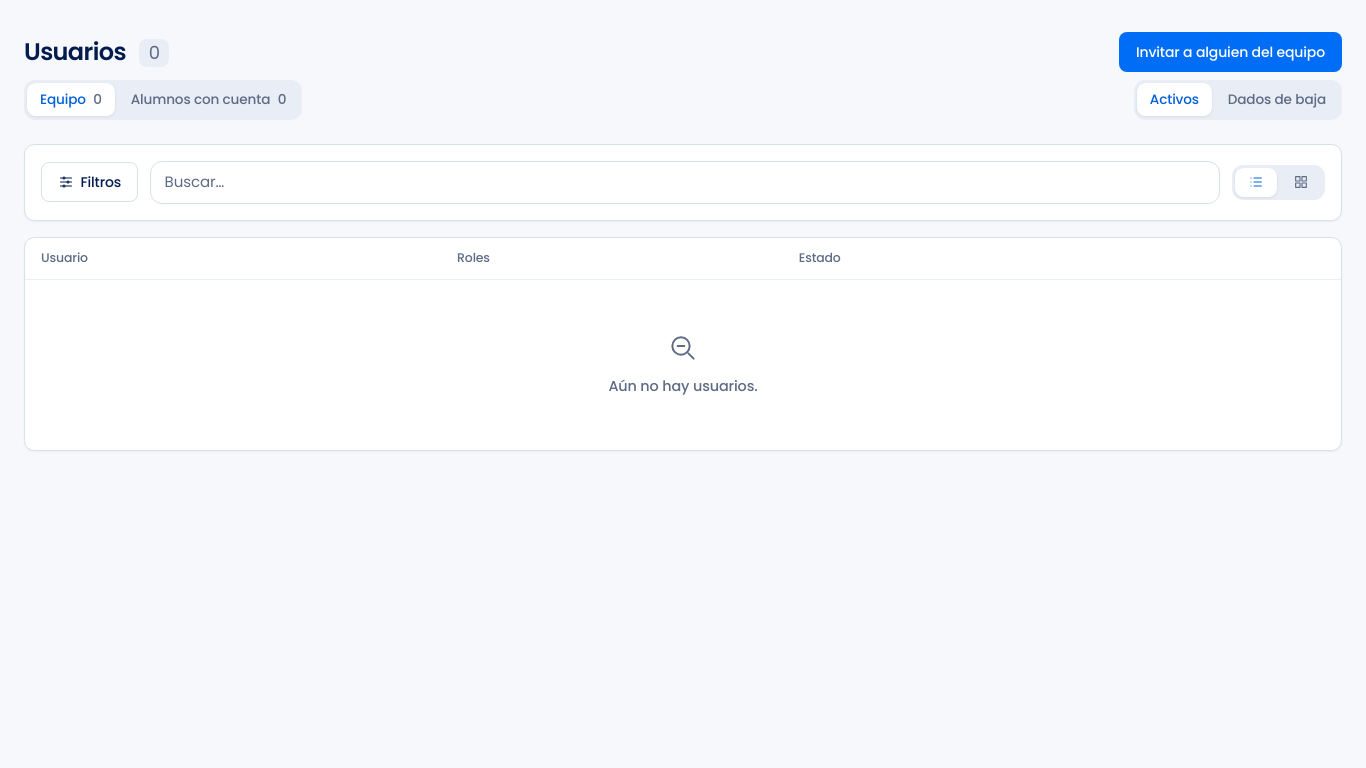
Test: invitar a alguien del equipo › con varias sucursales, la suya es obligatoria
Click the button "Invitar a alguien del equipo" at (1230, 52), box [1119,32,1342,72]
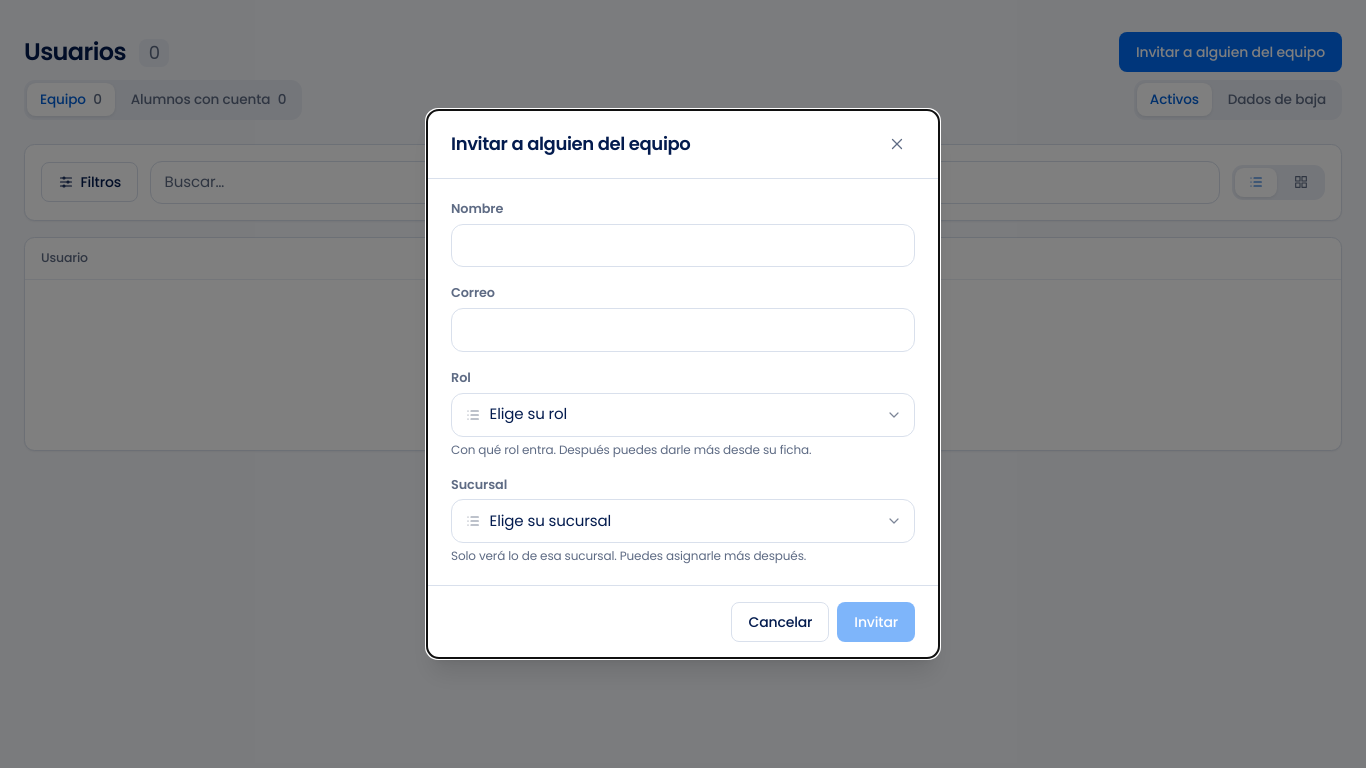
Type "Rosa" into the field with id "ie-nombre" at (683, 246), box [451,224,915,267]
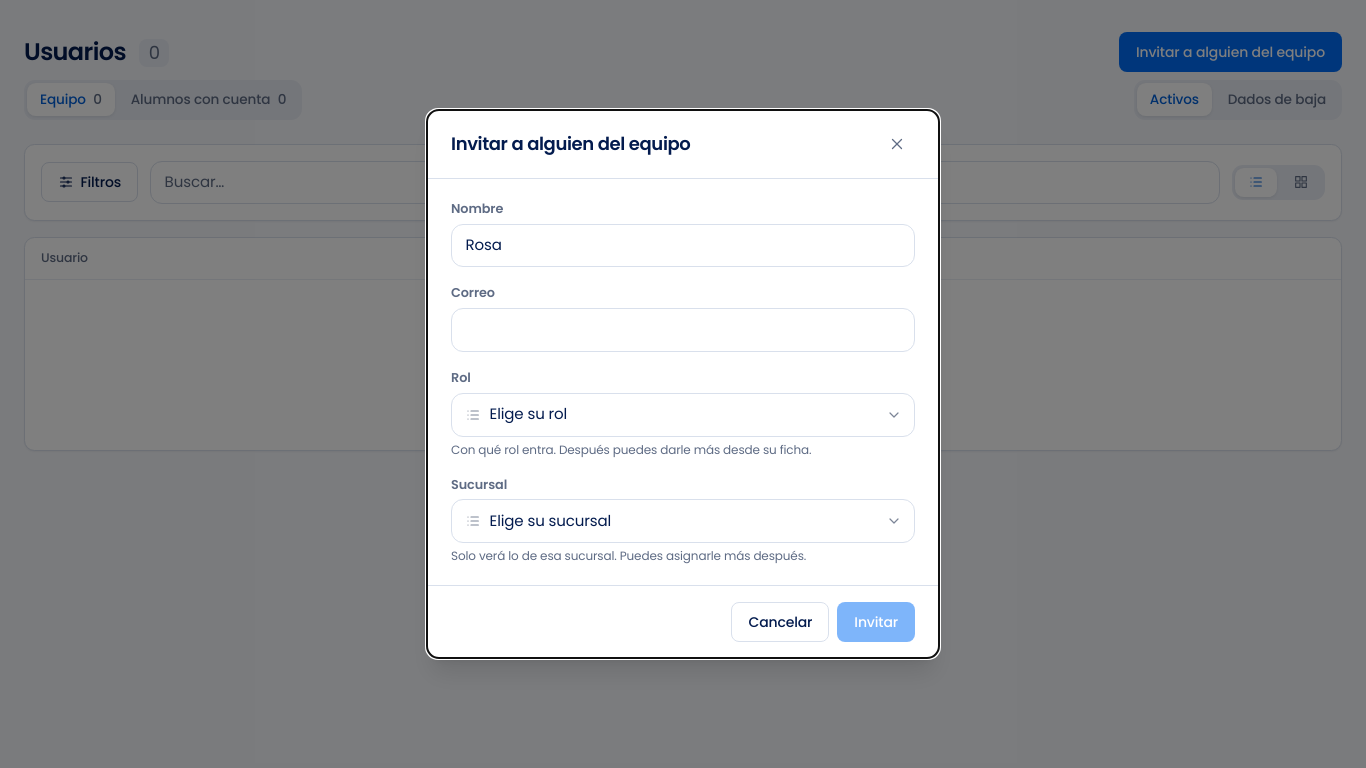
Type "rosa@correo.mx" into the field with id "ie-email" at (683, 330), box [451,308,915,352]
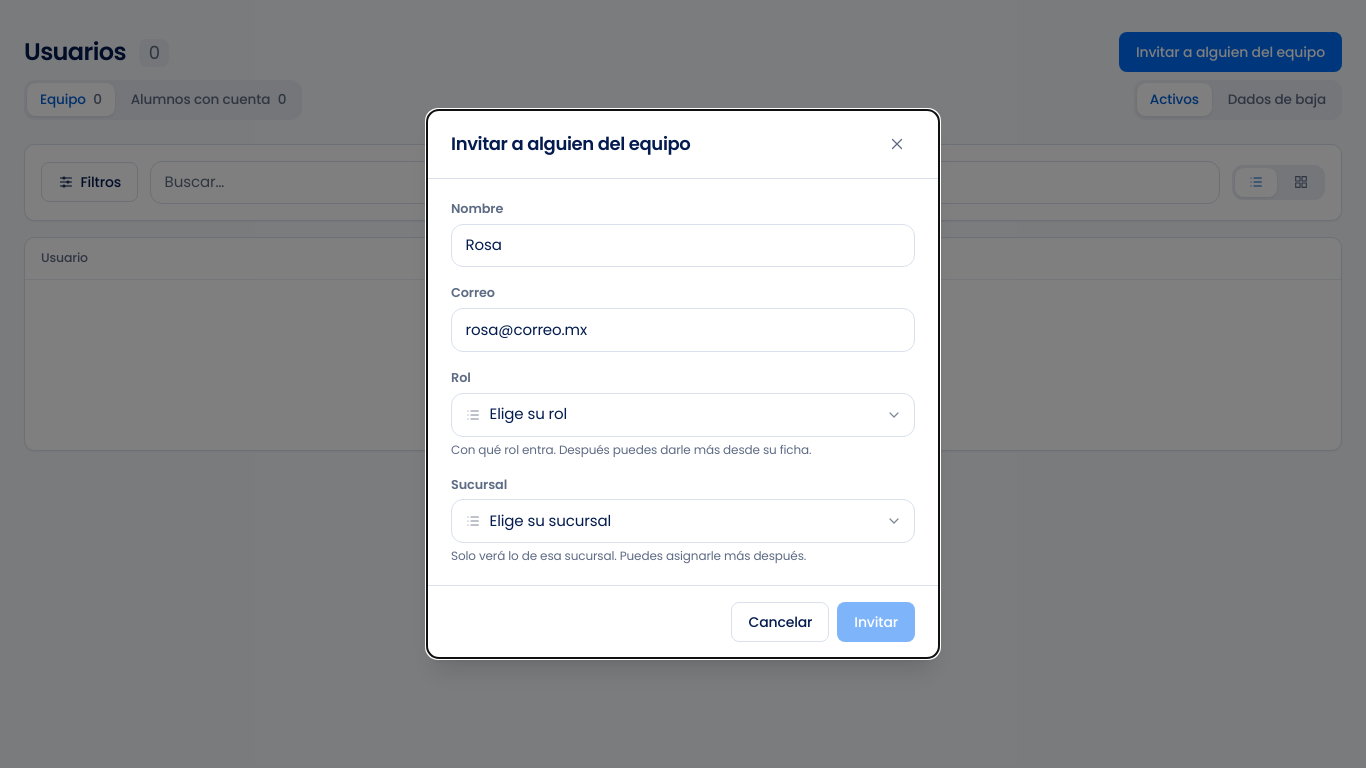
Select "Recepción" in the dropdown labelled "Rol" at (683, 415), box [451,393,915,437]
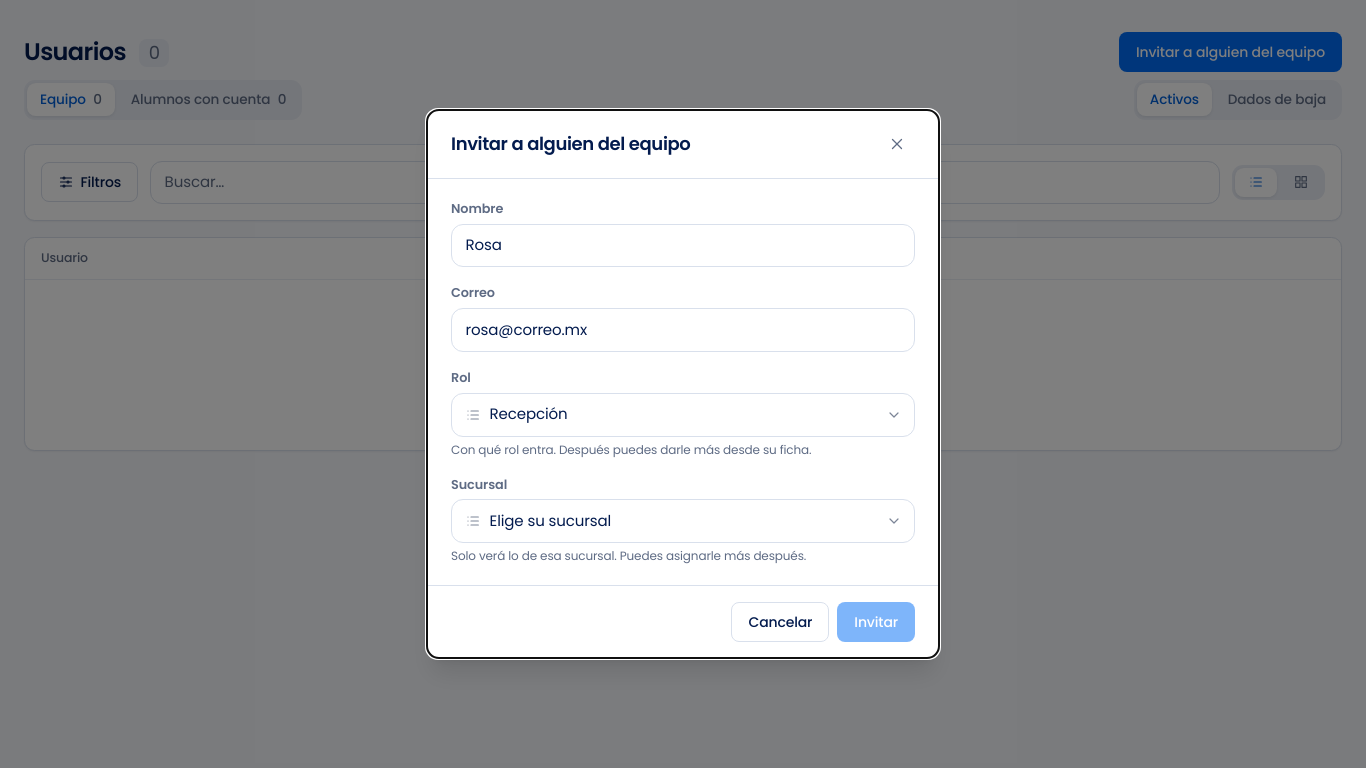
Expected: the button "Invitar" is disabled, [837,602,915,642]
Select "Norte" in the dropdown with id "ie-sede" at (683, 521), box [451,499,915,543]
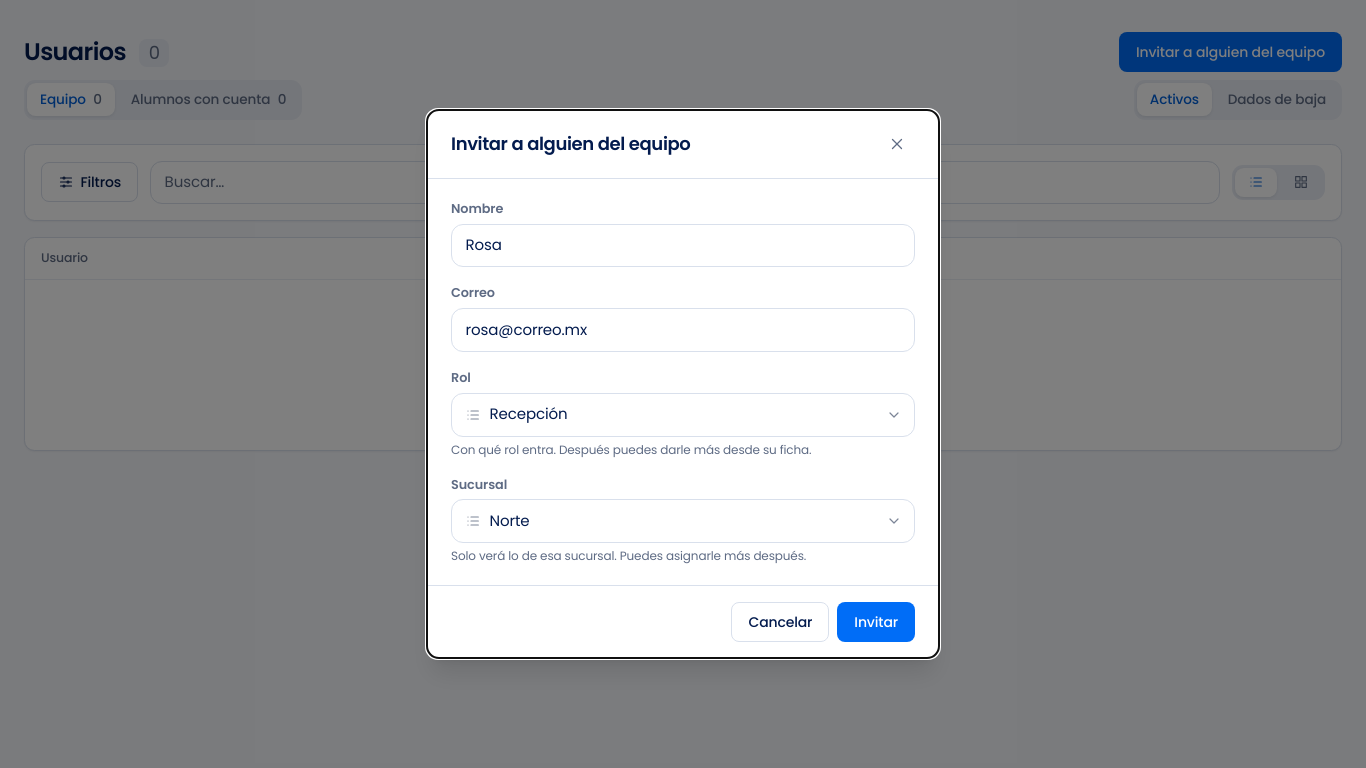
Expected: the button "Invitar" is enabled, [837,602,915,642]
